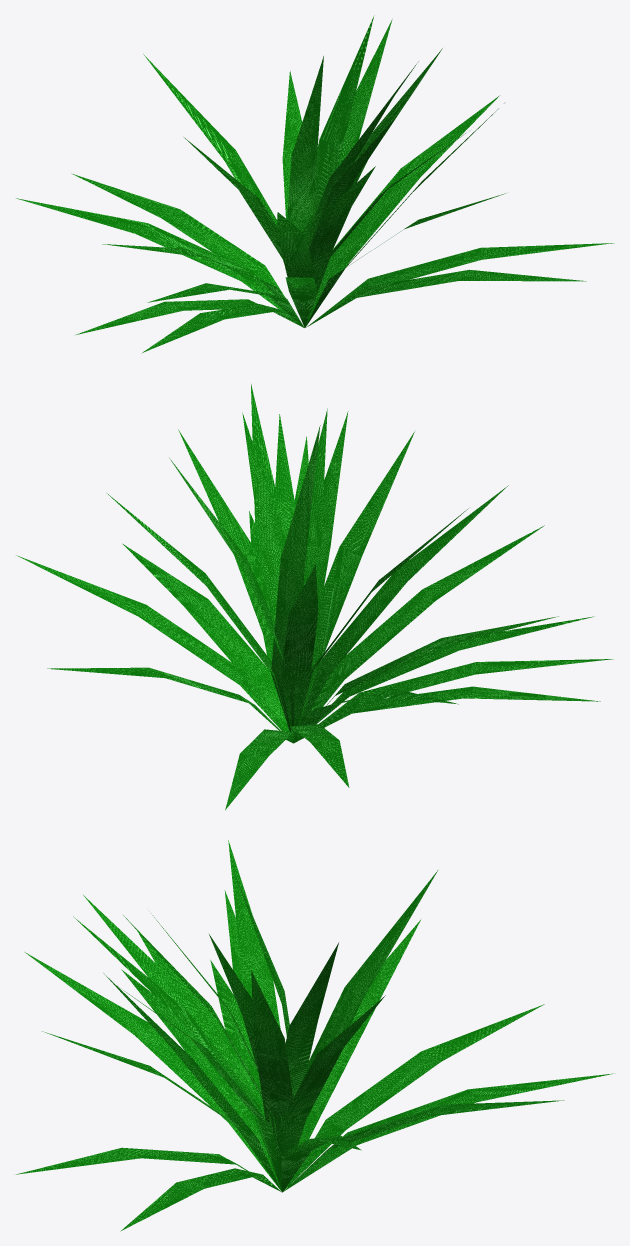
The model's file is plant4.dae.
The picture shows the model from 3 angles, top to bottom: view 1: azimuth 30°, elevation 25°; view 2: azimuth 150°, elevation 25°; view 3: azimuth 270°, elevation 25°; orthographic projection. The views are drawn at different scales.
Parts seen in each view (by area): view 1: RedRotationFin (×24); view 2: RedRotationFin (×24); view 3: RedRotationFin (×25).
Part boxes in pixels (<box>): RedRotationFin (×24): <box>16,15,613,353</box>; RedRotationFin (×24): <box>16,384,613,810</box>; RedRotationFin (×25): <box>16,840,613,1231</box>.
Bounding box in the file's own units: 89.07 × 83.23 × 49.3.
